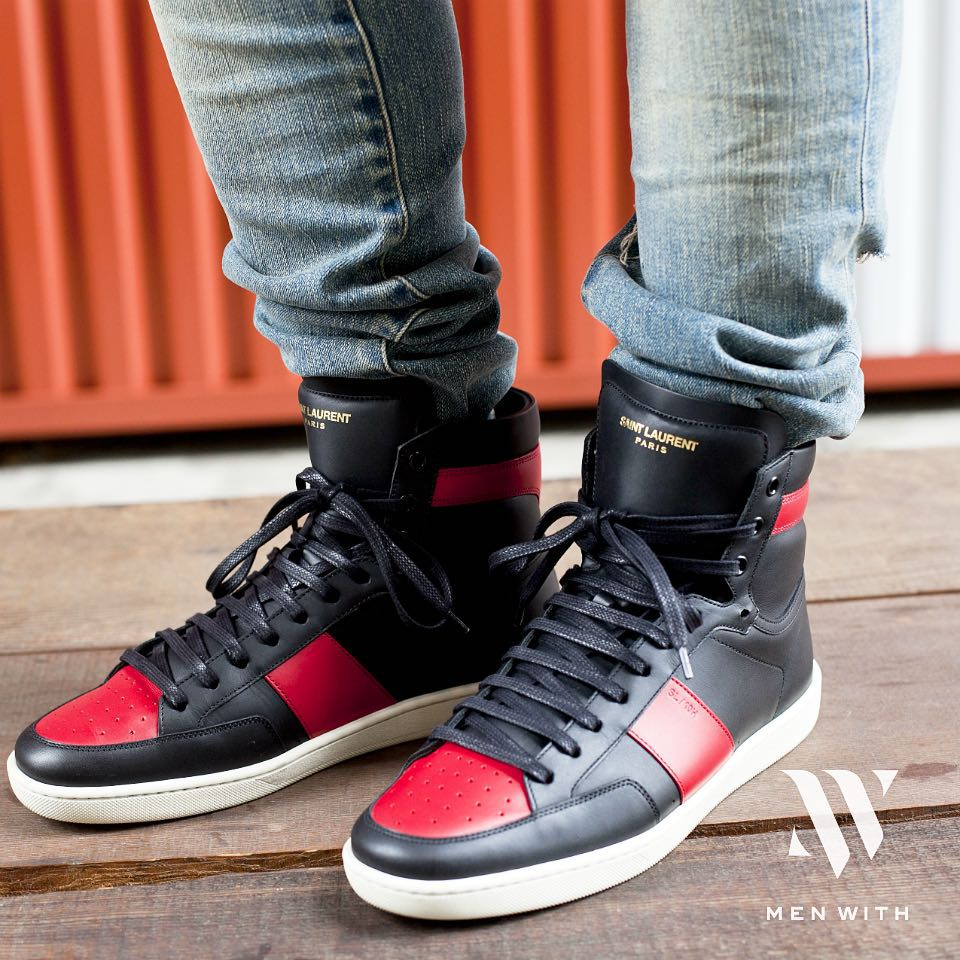sneaker: (319, 340, 877, 951), (4, 351, 578, 846)
